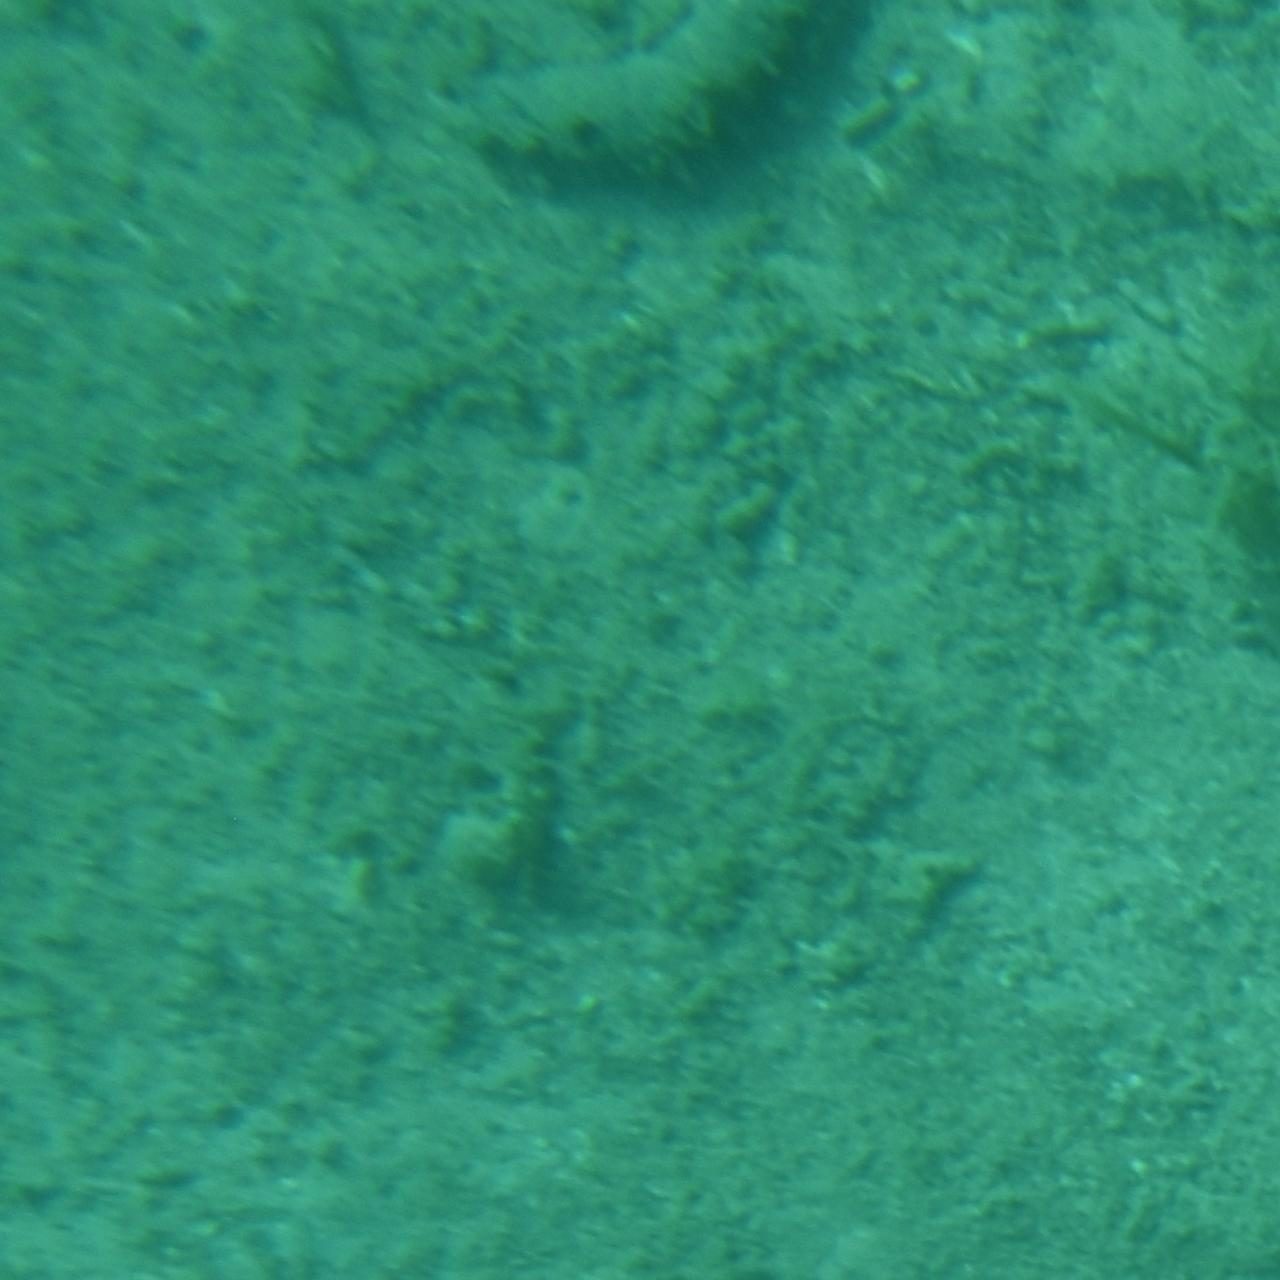Holothuria tubulosa: (440, 0, 840, 226)
